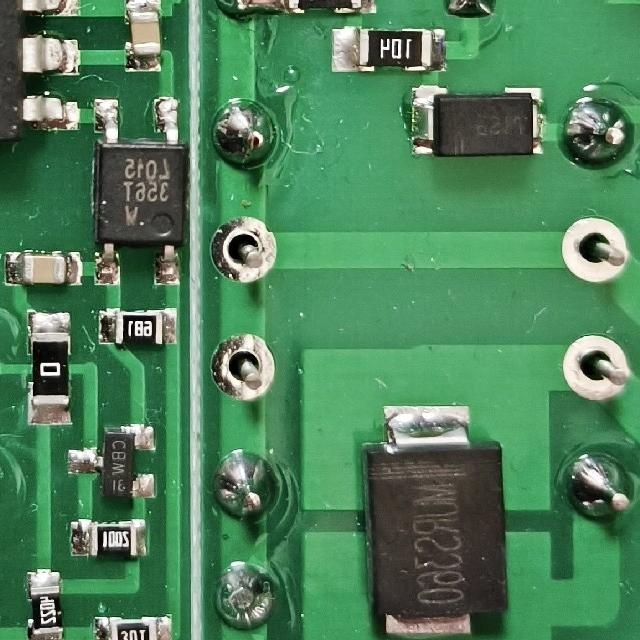chip-capacitor: (1, 247, 86, 289), (122, 0, 166, 75)
chip-resistor: (327, 24, 450, 76), (24, 308, 76, 428), (63, 515, 151, 559), (93, 305, 180, 348), (21, 568, 64, 640), (89, 613, 175, 640)
diode: (356, 399, 512, 640), (401, 82, 547, 162)
ic: (89, 93, 187, 291)
transistor: (63, 418, 161, 502)
